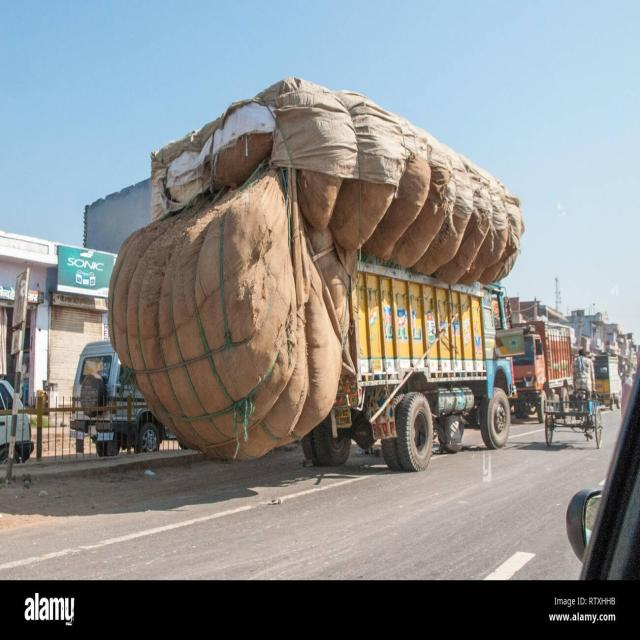truck: (302, 257, 516, 470), (512, 321, 572, 423)
